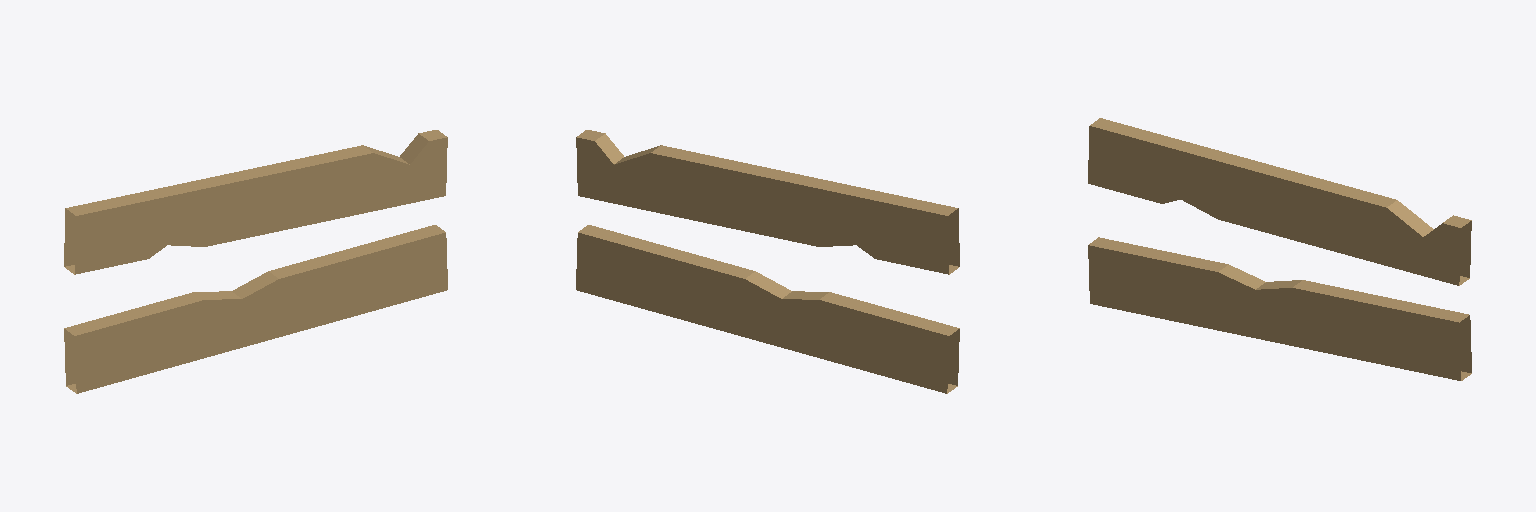
The model's file is Hilly_Prop_Fence_Boards_3.obj.
3 views of the same model, side by side, from view 1: azimuth 30°, elevation 25°; view 2: azimuth 150°, elevation 25°; view 3: azimuth 330°, elevation 25° (orthographic).
Parts seen in each view (by area): view 1: object2, object1; view 2: object2, object1; view 3: object2, object1.
Boxes of the visible parts, box(x1,y1,x2,y2) form: object2: box(64, 225, 447, 393); object1: box(64, 130, 447, 274); object2: box(576, 225, 959, 393); object1: box(576, 130, 959, 274); object2: box(1088, 237, 1471, 380); object1: box(1088, 118, 1471, 285).
Size of the model in its own units: 1.01 by 0.4578 by 0.05.